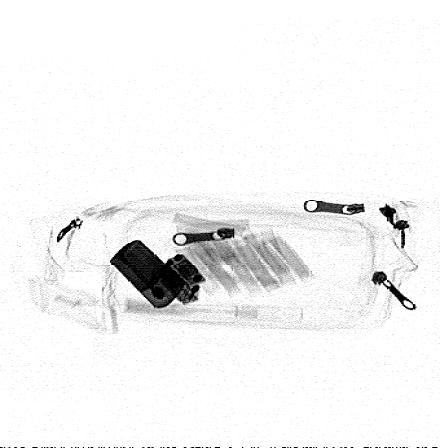Lighter: (108, 239, 188, 309)
